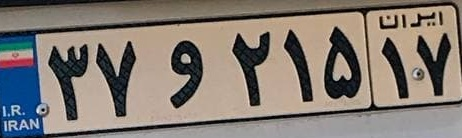character: (224, 26, 278, 112), (42, 37, 93, 126), (92, 35, 139, 123), (319, 20, 364, 103), (161, 34, 206, 111), (279, 23, 319, 108), (412, 29, 456, 97), (373, 32, 414, 102)
